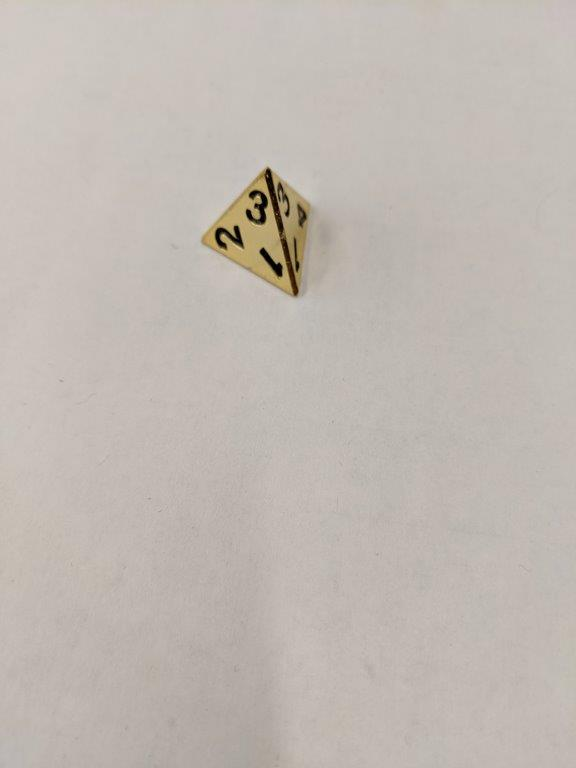d4-3: (198, 164, 318, 300)
